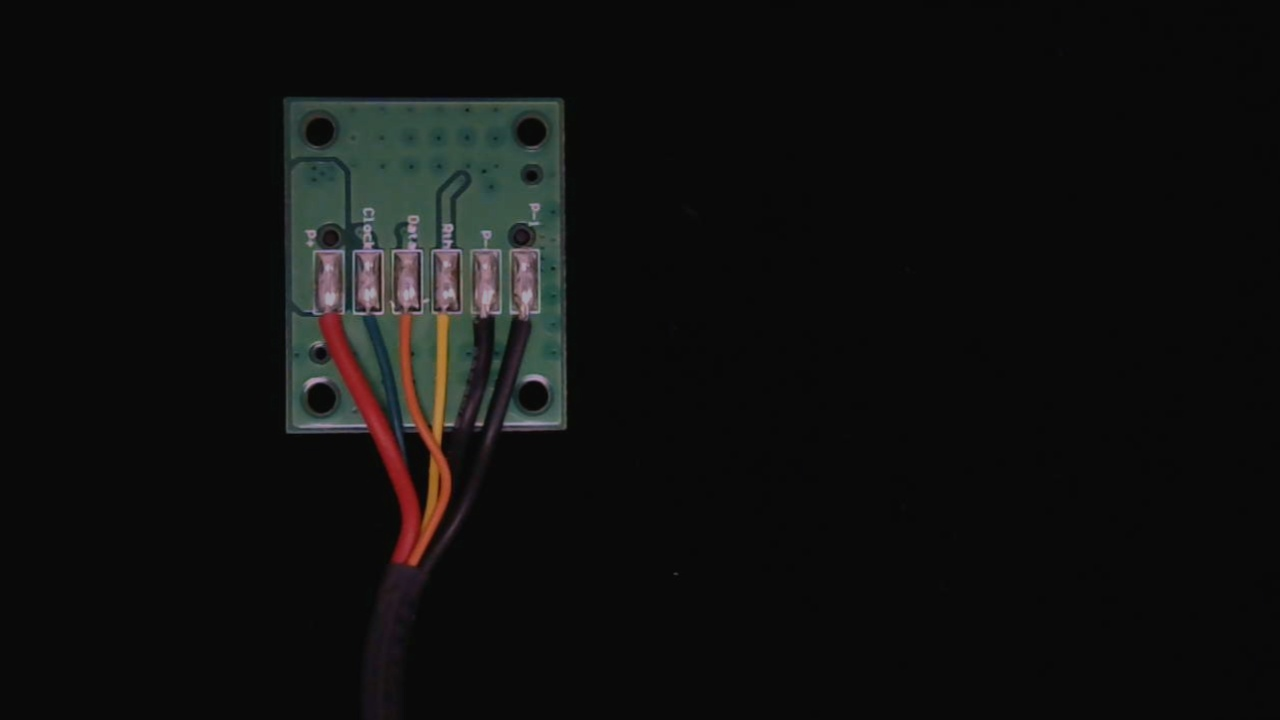Black: (468, 298, 501, 368)
Black1: (508, 298, 541, 363)
Green: (353, 299, 387, 356)
Orange: (391, 297, 423, 358)
Red: (313, 297, 348, 360)
Yellow: (429, 297, 461, 363)
